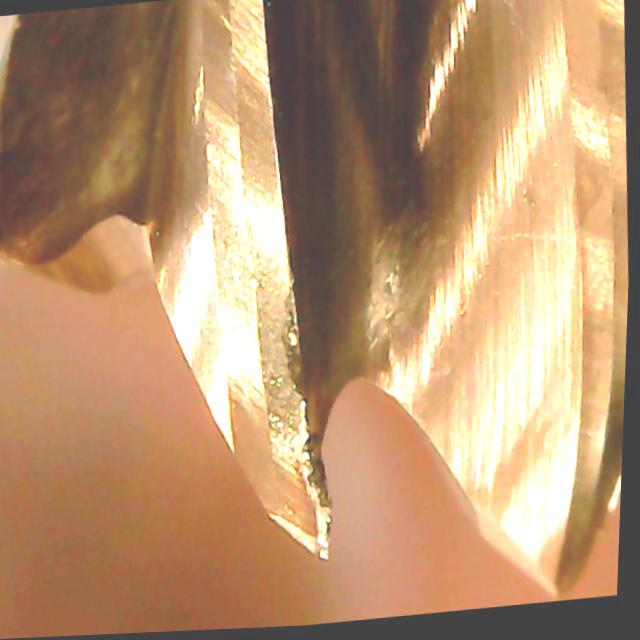Tool-wear-class-1: (199, 261, 363, 578)
